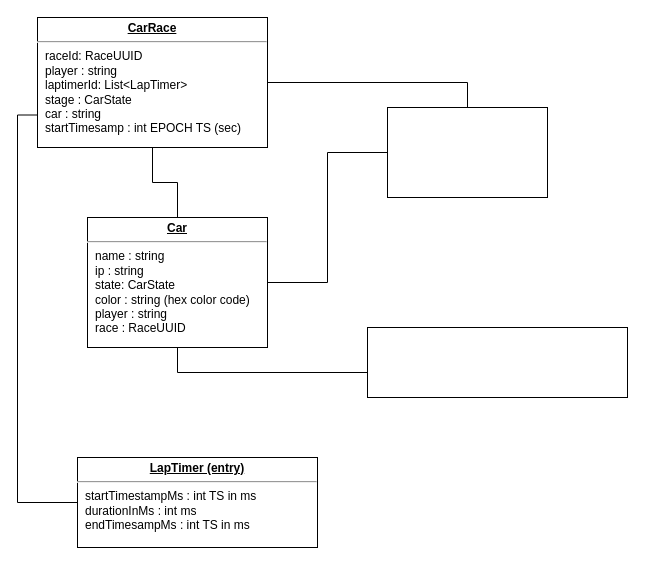
The diagram is 645 pixels wide and 565 high, and some of its shapes have lost their labels. Here are the shapes that lost their labels. From the top down, the centre of each, then its label:
the point at 467,152: CarState DRIVE RECORDING AI_ASSISTED MAINTAINANCE
the point at 497,362: Player pseudo: string registerTimestamp : int EPOCH TS (sec)
